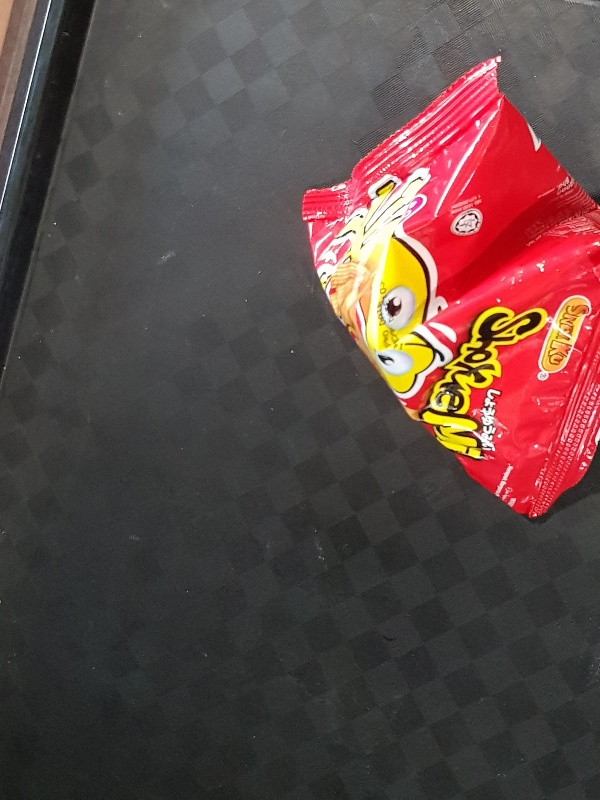ShoyueMi Spicy Flavoured Snacks: (301, 53, 600, 522)
